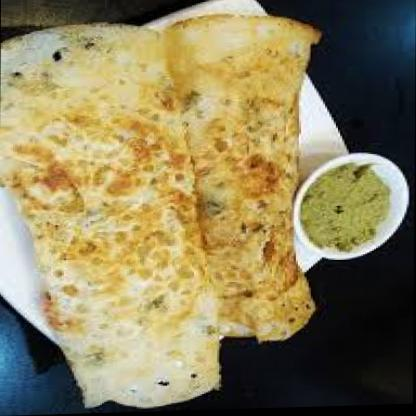dosa: (0, 22, 220, 411), (160, 15, 319, 345)
